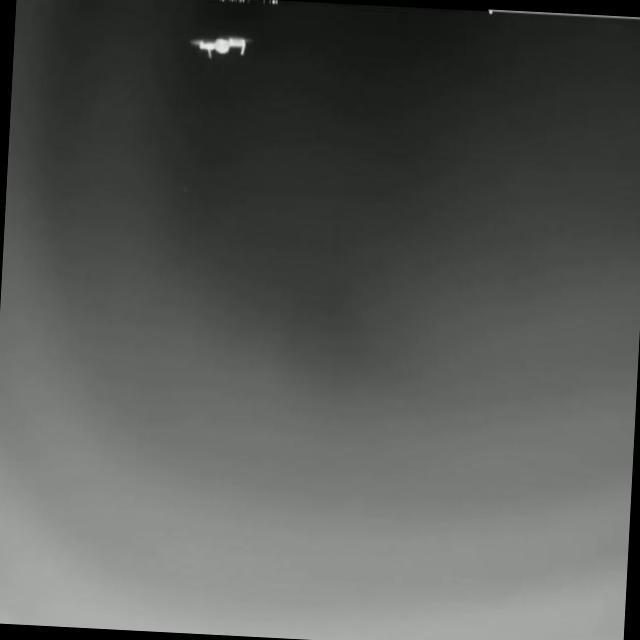DRONE: (189, 33, 256, 61)
